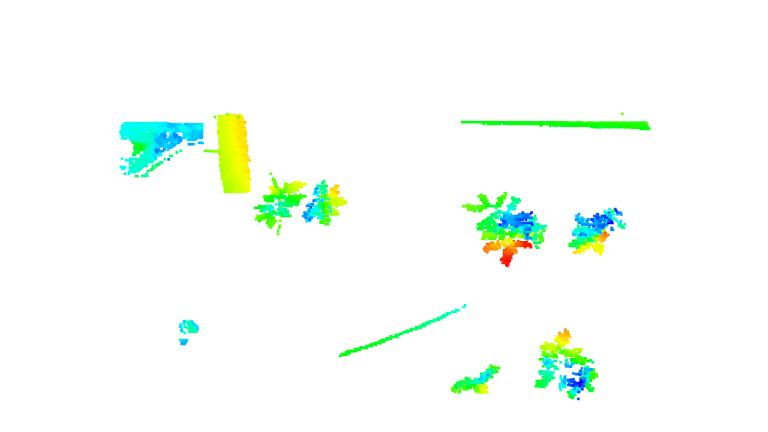chickpea: (462, 192, 546, 265), (537, 330, 597, 398), (254, 177, 307, 227), (567, 205, 622, 253), (299, 181, 348, 227), (449, 364, 501, 395)
